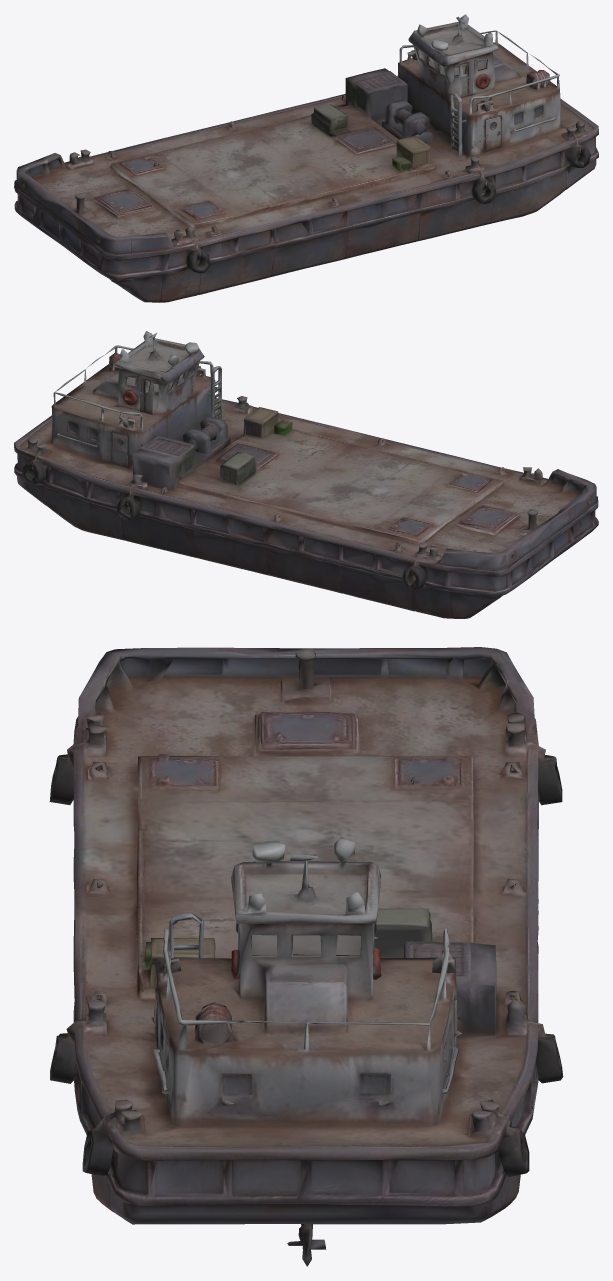
The model's file is boat_barge.glb.
The picture shows the model from 3 angles, top to bottom: view 1: azimuth 30°, elevation 25°; view 2: azimuth 150°, elevation 25°; view 3: azimuth 270°, elevation 25°; orthographic projection. The views are drawn at different scales.
Parts seen in each view (by area): view 1: tripo_node_6db4af20-c1fb-4acc-9ed4-8d6a705088ea; view 2: tripo_node_6db4af20-c1fb-4acc-9ed4-8d6a705088ea; view 3: tripo_node_6db4af20-c1fb-4acc-9ed4-8d6a705088ea.
Part boxes in pixels (x1,y1,x2,y2): tripo_node_6db4af20-c1fb-4acc-9ed4-8d6a705088ea: [14, 14, 598, 302]; tripo_node_6db4af20-c1fb-4acc-9ed4-8d6a705088ea: [14, 331, 598, 618]; tripo_node_6db4af20-c1fb-4acc-9ed4-8d6a705088ea: [49, 647, 563, 1266].
Bounding box in the file's own units: 1 × 0.3273 × 0.4463.
Materials: 1 (1 with a texture image).
